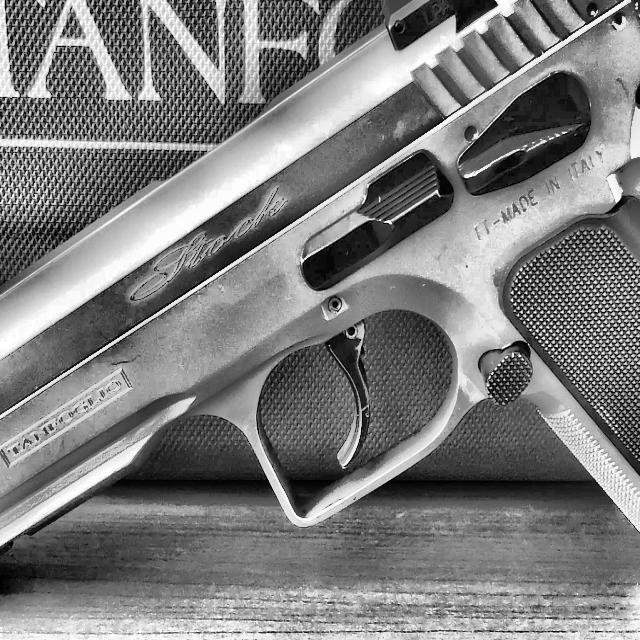Tanfoglio: (0, 0, 640, 628)
